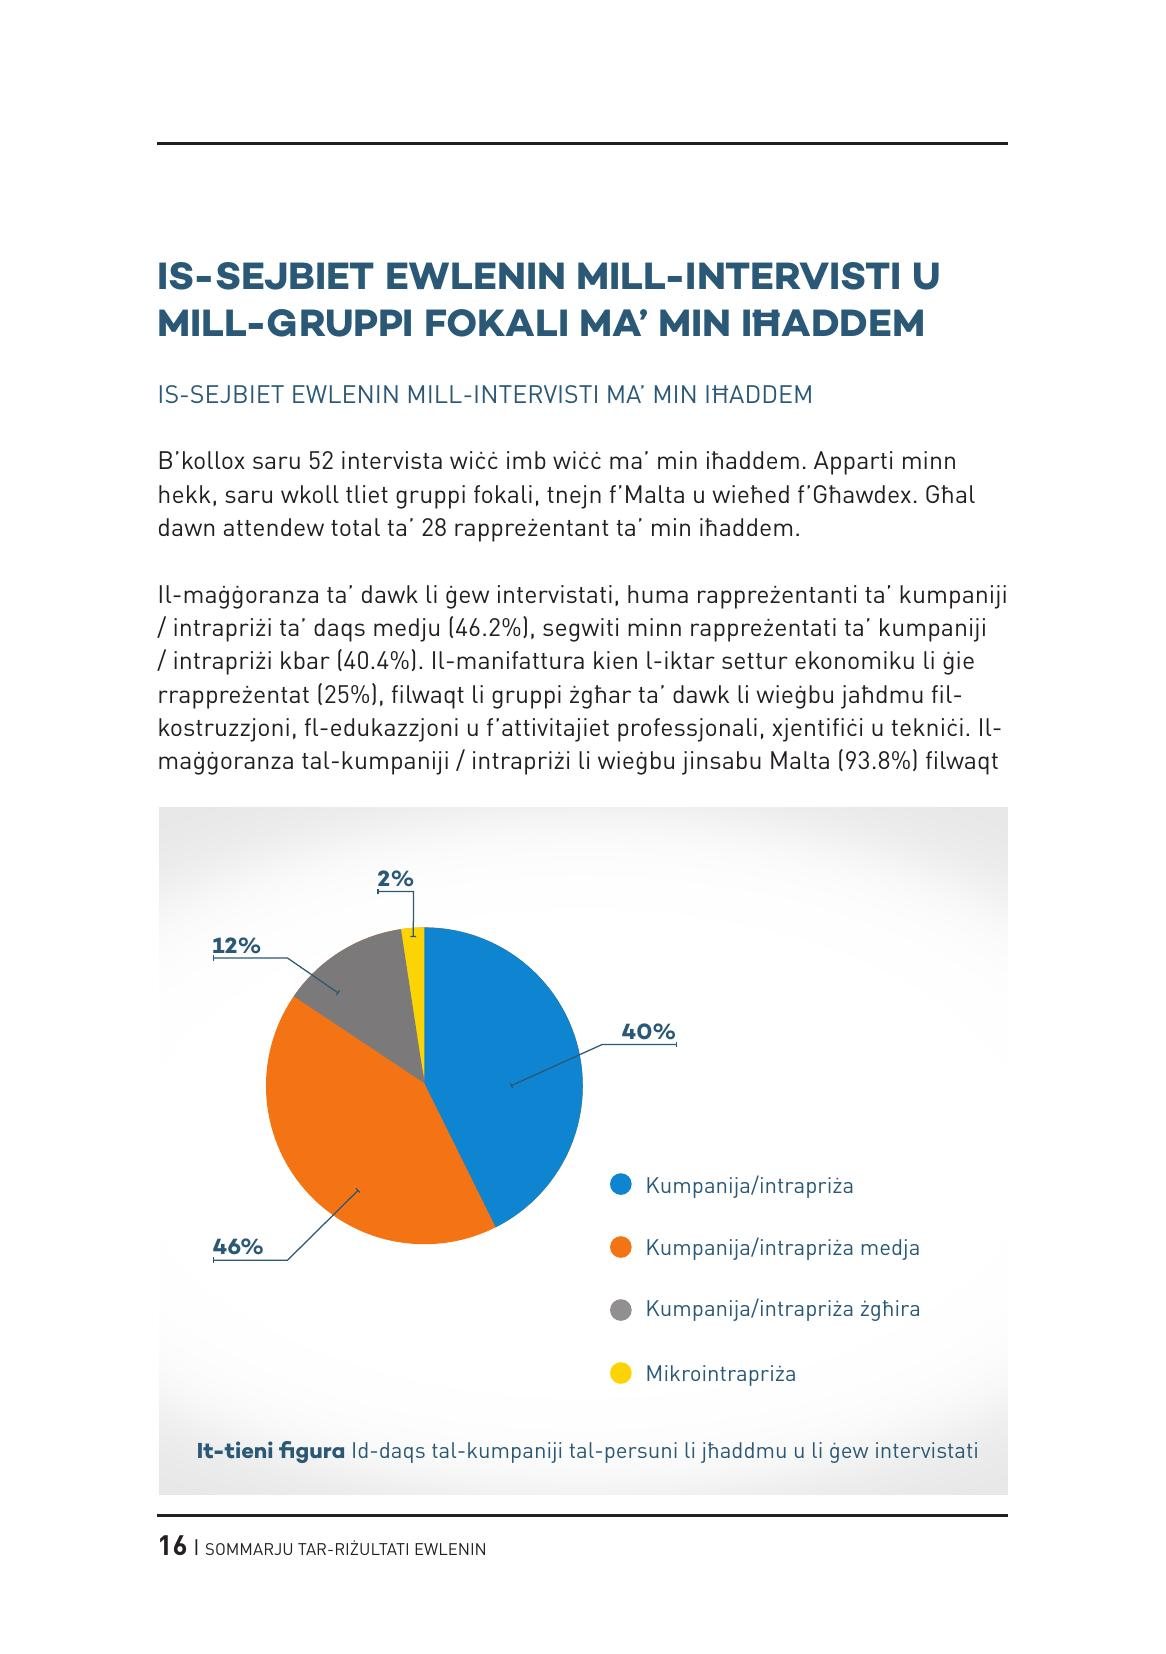text: (141, 252, 1015, 791), (639, 1164, 948, 1400), (180, 1424, 986, 1477)
